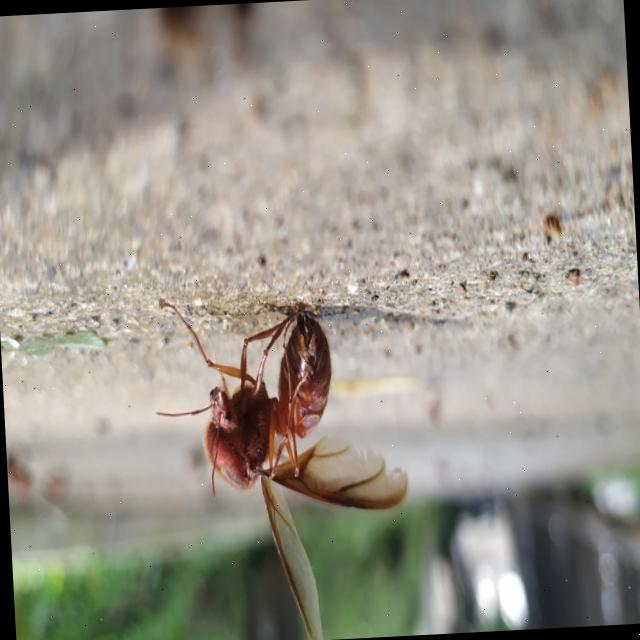Dead-Male-Alate: (150, 290, 416, 640)
